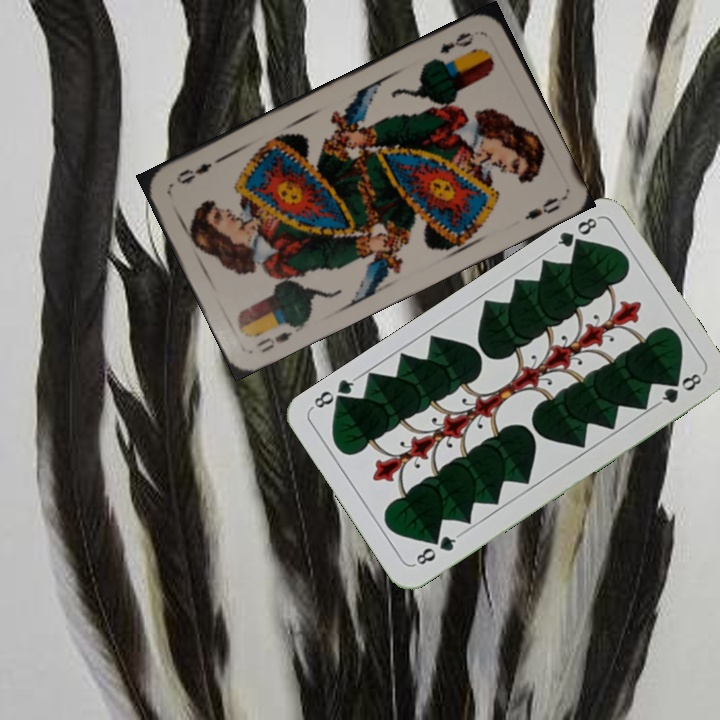EO: (435, 28, 477, 57), (252, 327, 295, 355)
G8: (548, 213, 601, 255), (410, 530, 462, 568)
